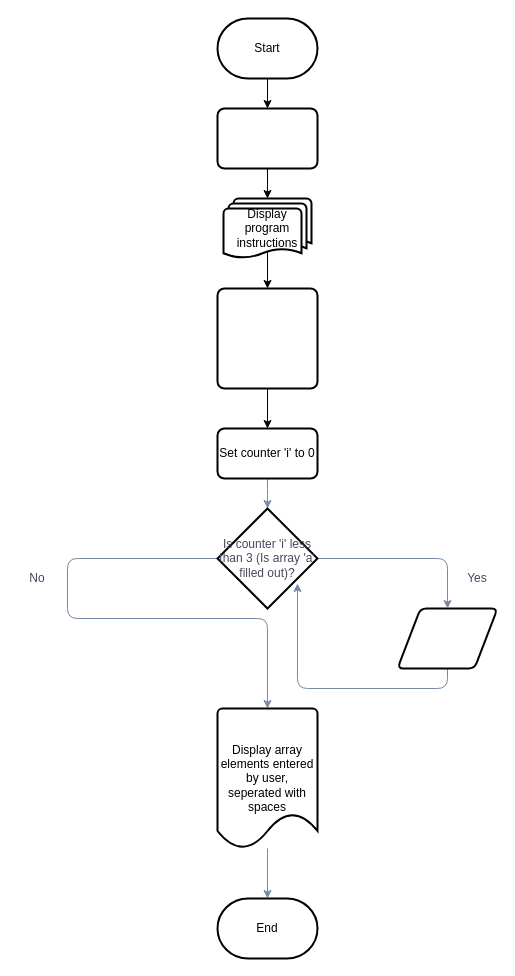
The diagram is 515 pixels wide and 976 high, and some of its shapes have lost their labels. Each missing label, with the centre of its shape:
"Ask user to enter numbers until array is filled out" goes at pixel 447 638.
"Declare array 'a' with length of 3 integer number elements" goes at pixel 267 338.
"In function main()" goes at pixel 267 138.
